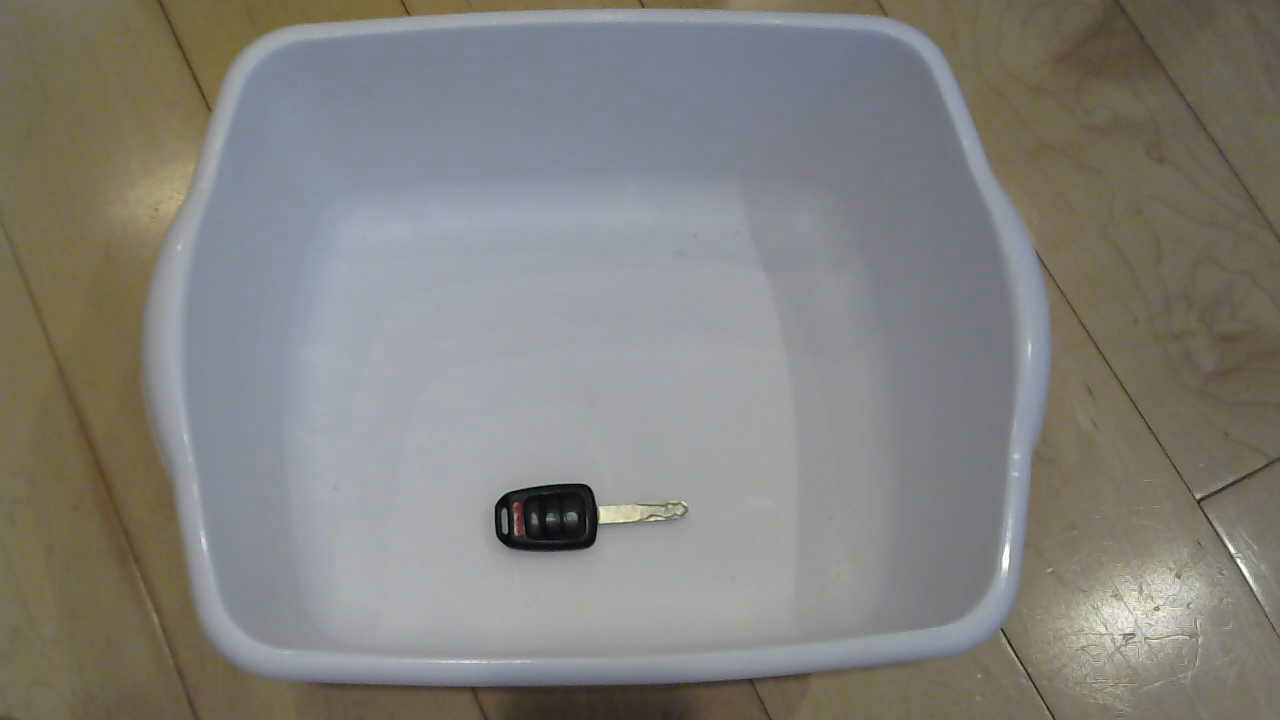key: (493, 476, 699, 565)
